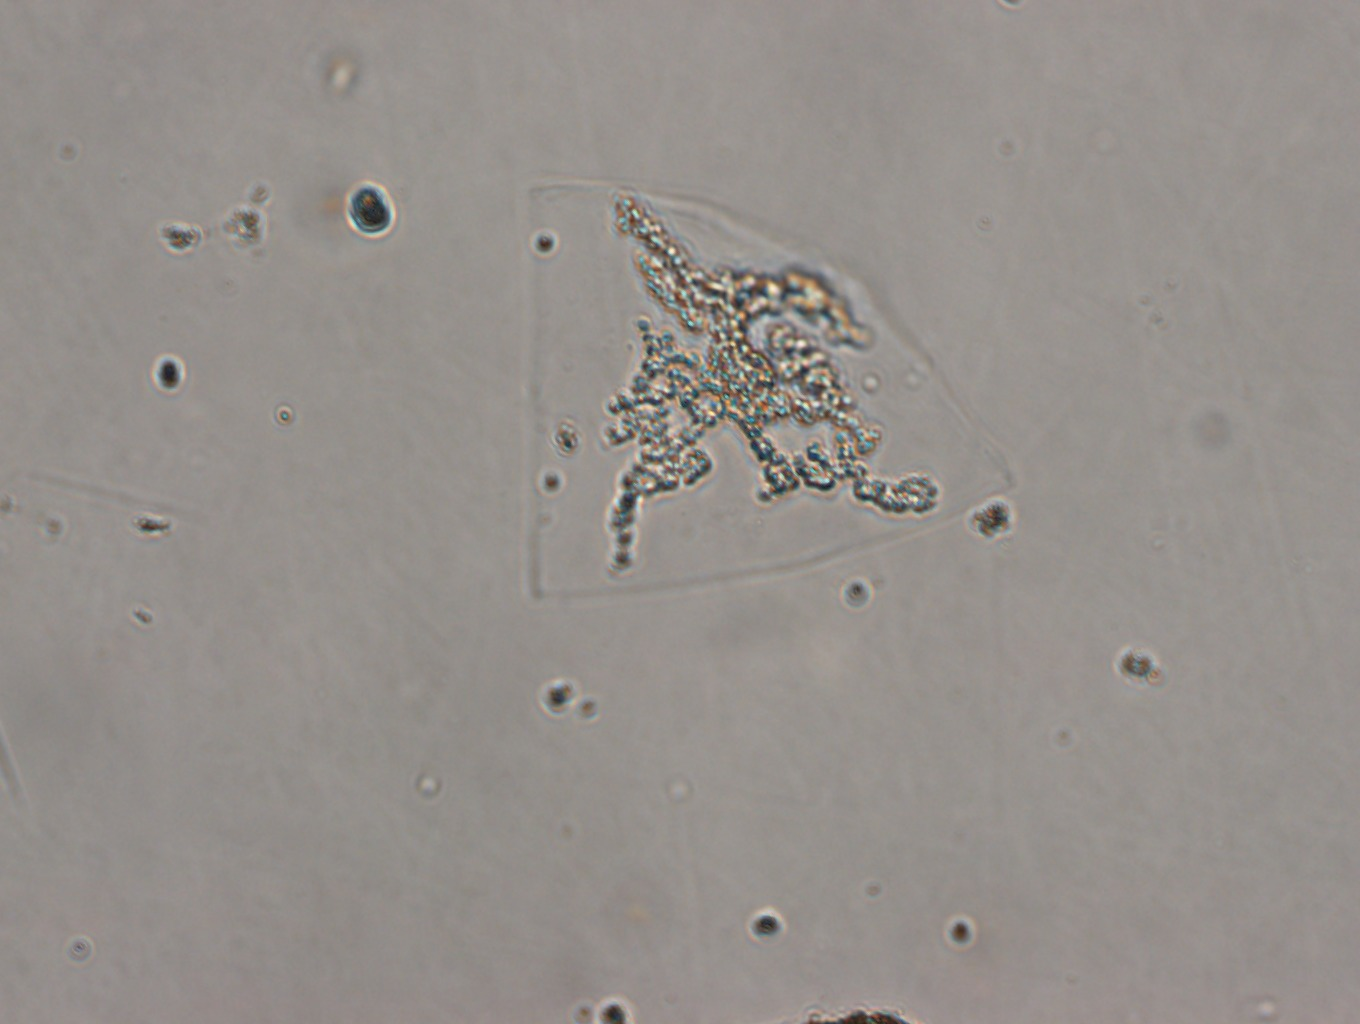helicotheca: (522, 181, 1027, 605)
